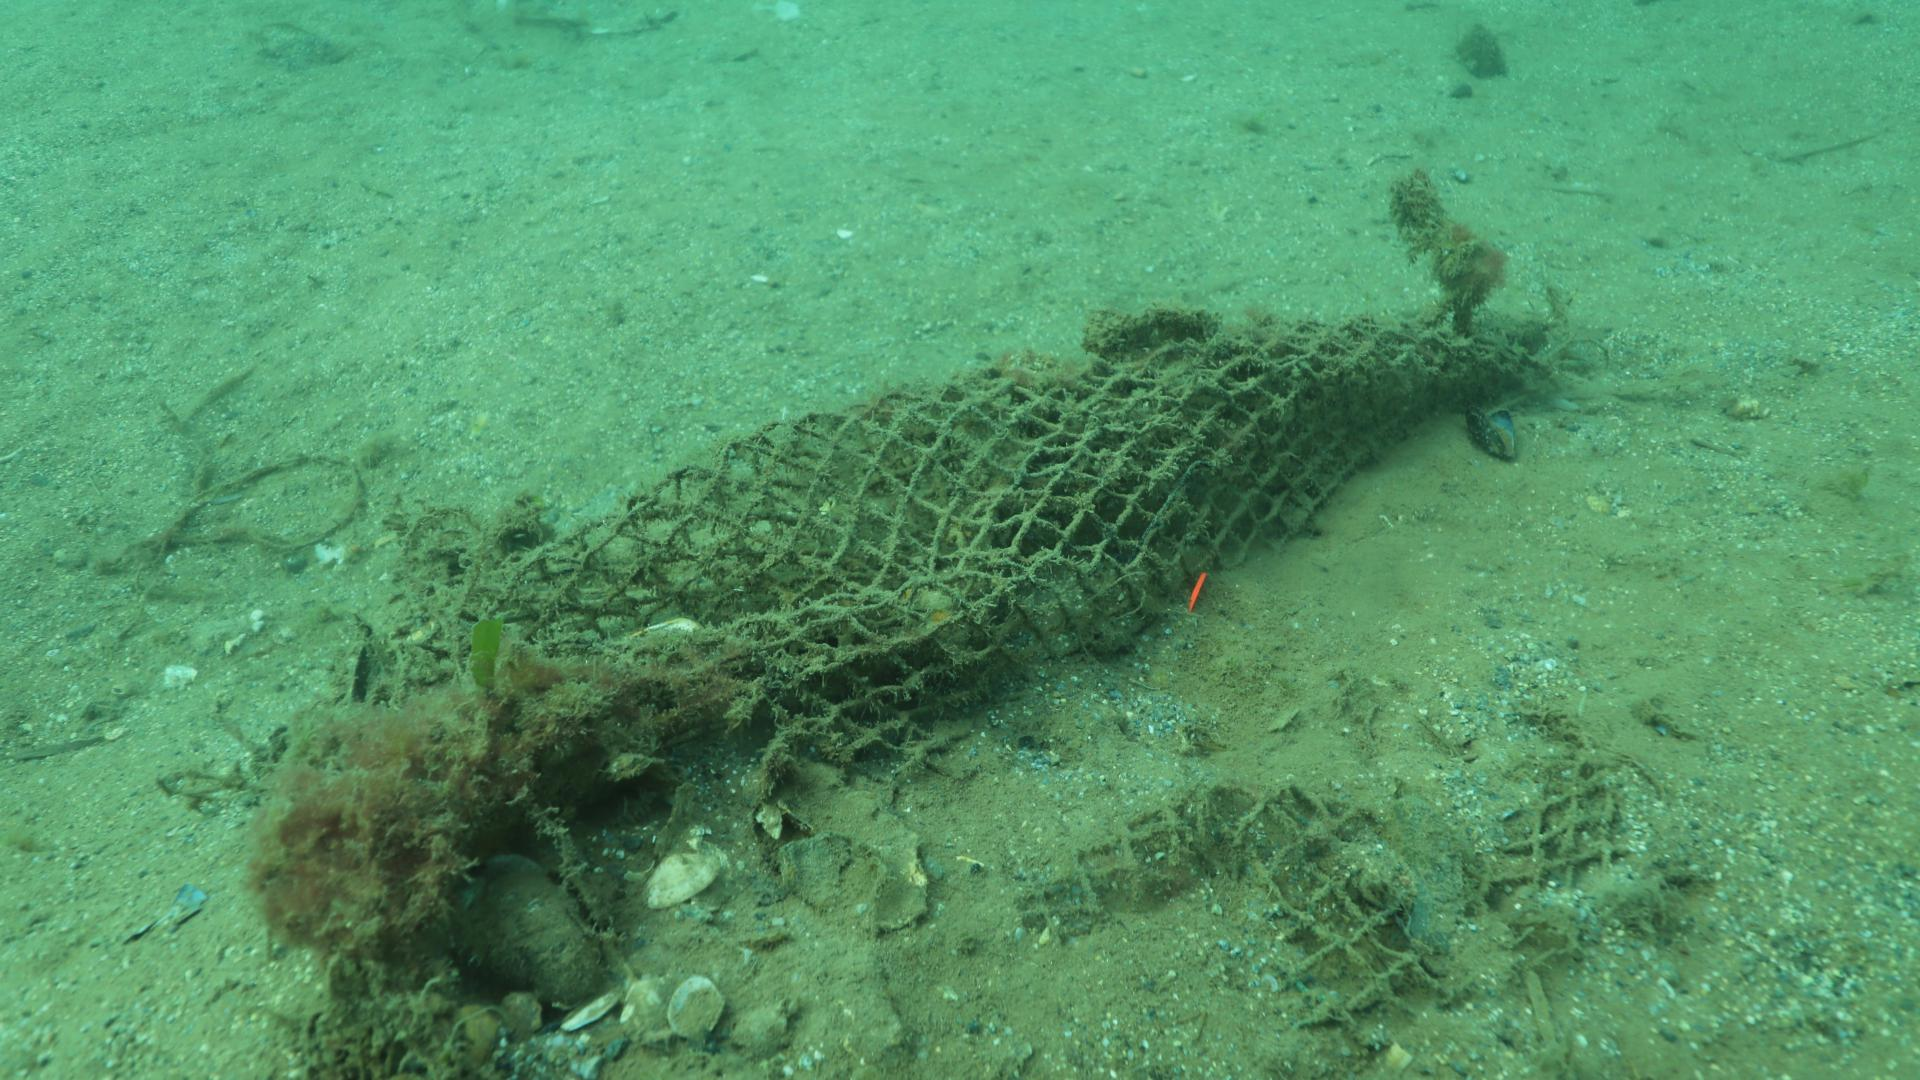fish net: (386, 313, 1559, 773), (1017, 781, 1437, 1025)
